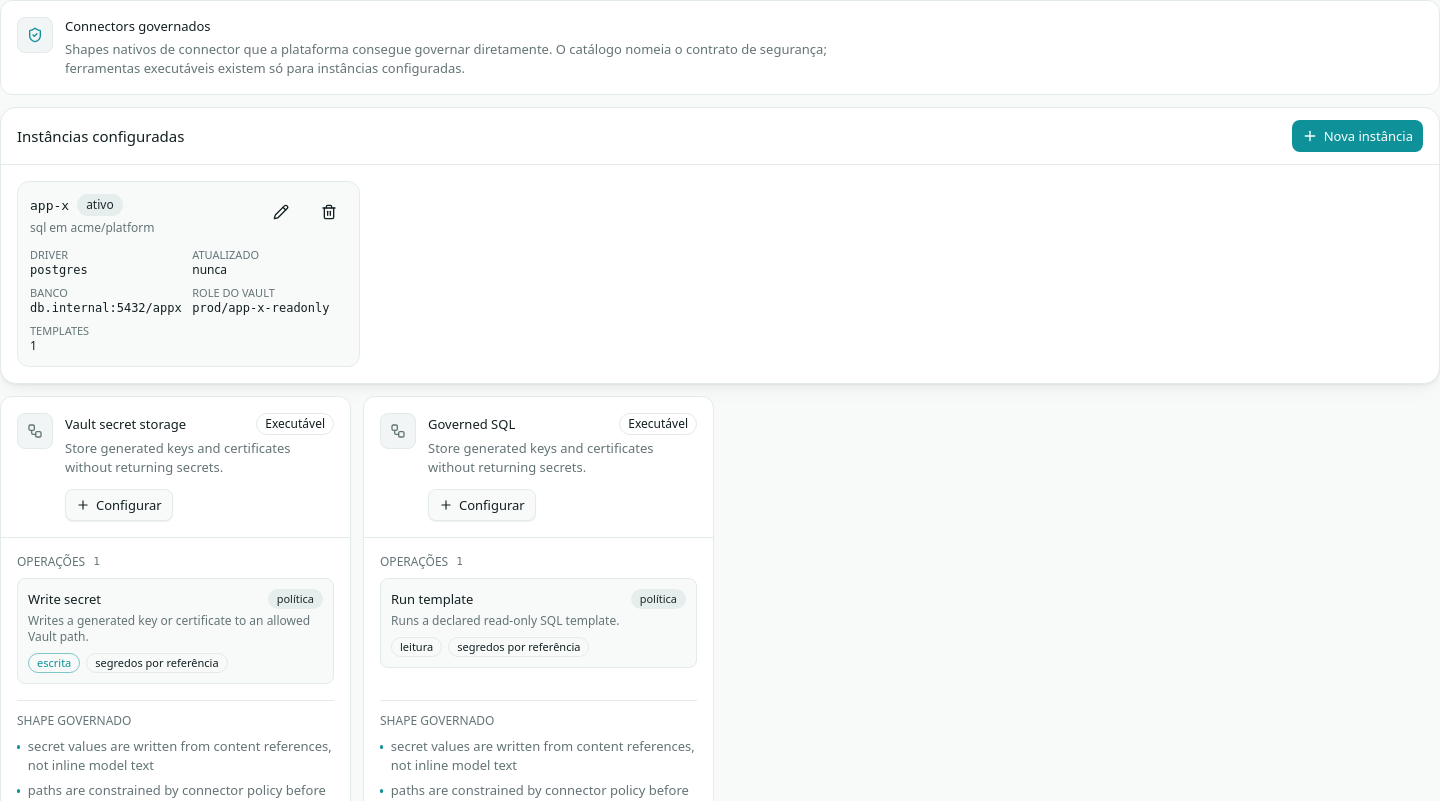
Test case: governed connector catalogue › offers configuration and editing for a runtime SQL connector
Expected: the text "Executável" is shown 2 times, [256,413,334,435]; [619,413,697,435]
Expected: the button named "Editar" is shown, [262,194,298,230]
Step 1. Click the button "Configurar" below "Governed SQL" → coordinates (482, 505), box [428,489,536,521]
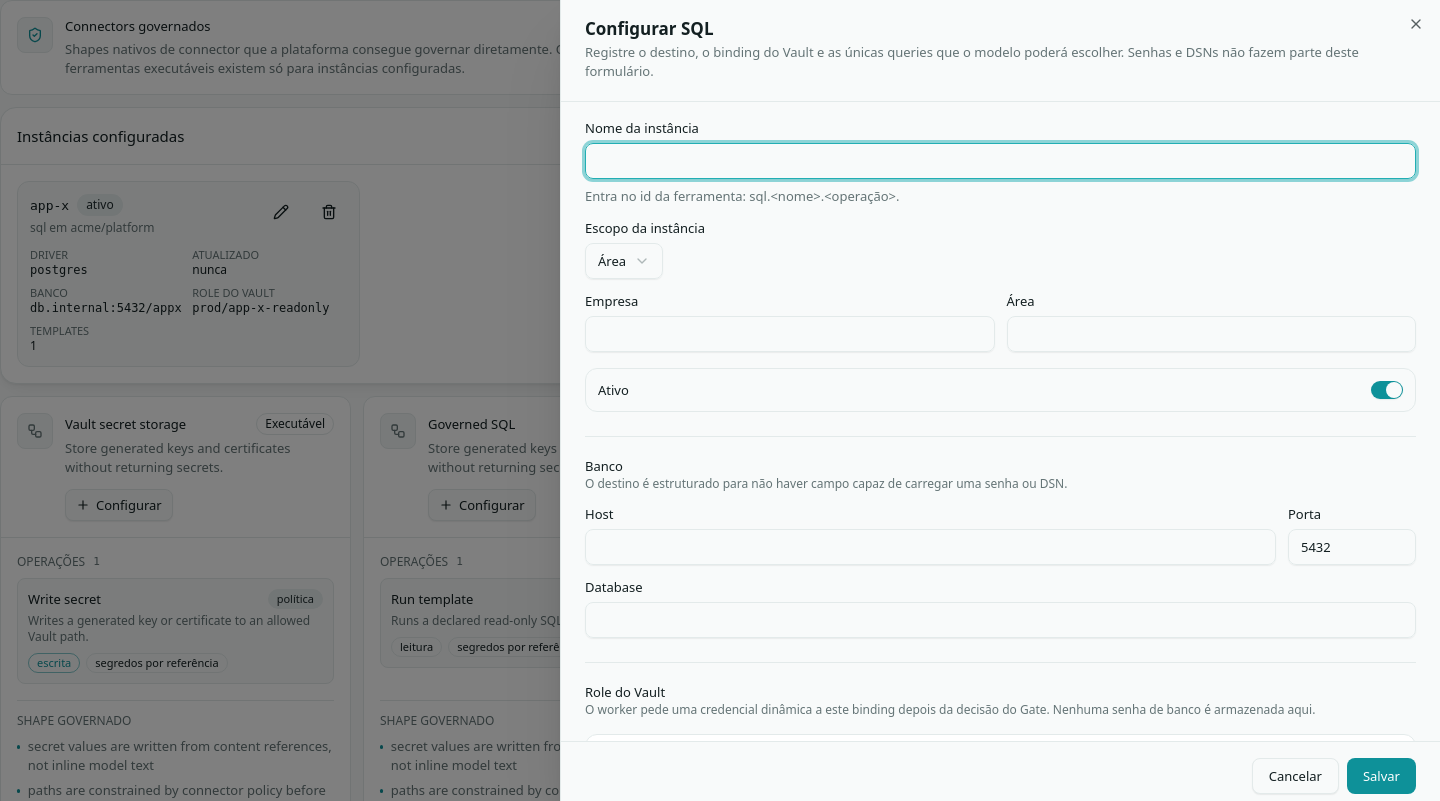
Result: the heading "Configurar SQL" is shown at [585,17,714,40]
